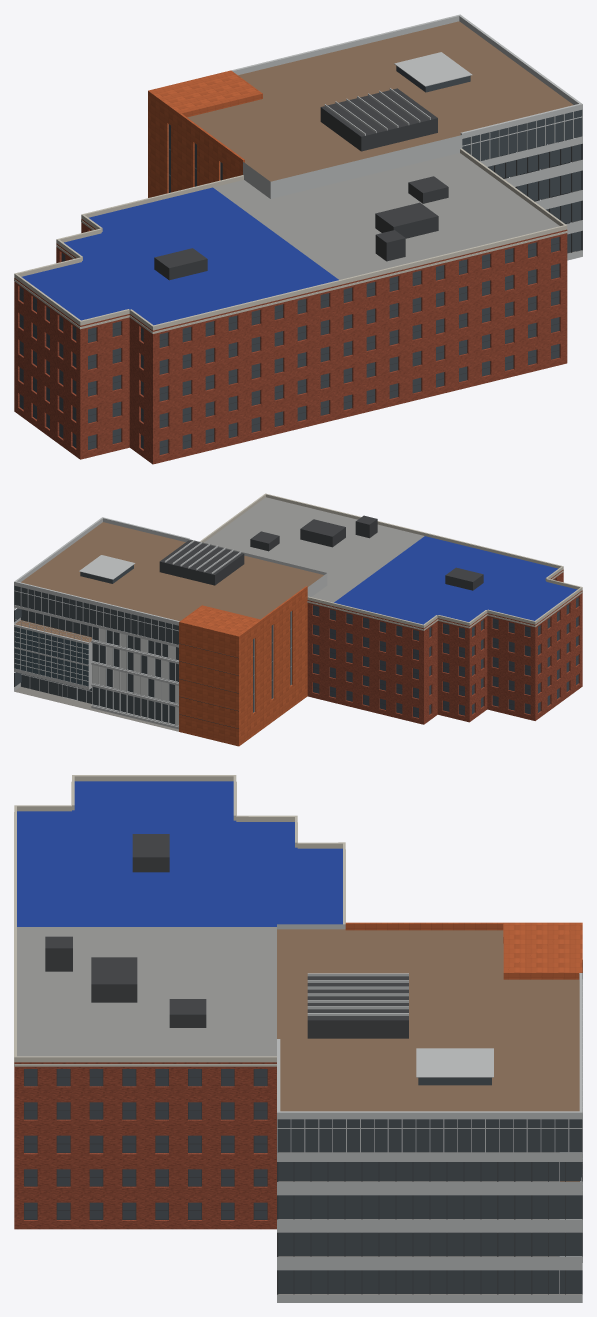
The picture shows the model from 3 angles, top to bottom: view 1: azimuth 30°, elevation 25°; view 2: azimuth 150°, elevation 25°; view 3: azimuth 270°, elevation 25°; orthographic projection. The views are drawn at different scales.
Parts seen in each view (by area): view 1: centralLibrary__brick, centralLibrary__deck, centralLibrary__roofBlue, centralLibrary__roofGray, centralLibrary__glass, centralLibrary__metal, centralLibrary__frame, centralLibrary__terracotta, centralLibrary__trim, centralLibrary__glassNew; view 2: centralLibrary__brick, centralLibrary__terracotta, centralLibrary__deck, centralLibrary__roofBlue, centralLibrary__metal, centralLibrary__glassNew, centralLibrary__roofGray, centralLibrary__frame, centralLibrary__glass, centralLibrary__trim, centralLibrary__glassBox, centralLibrary__panelW (+1 smaller); view 3: centralLibrary__deck, centralLibrary__glassNew, centralLibrary__roofBlue, centralLibrary__brick, centralLibrary__roofGray, centralLibrary__metal, centralLibrary__frame, centralLibrary__glass, centralLibrary__trim, centralLibrary__terracotta, centralLibrary__base.
Part boxes in pixels (left/top/right/bottom): centralLibrary__brick: left=14, top=219, right=567, bottom=464; centralLibrary__deck: left=187, top=21, right=573, bottom=181; centralLibrary__roofBlue: left=22, top=187, right=338, bottom=325; centralLibrary__roofGray: left=213, top=153, right=559, bottom=279; centralLibrary__glass: left=20, top=237, right=559, bottom=454; centralLibrary__metal: left=168, top=14, right=582, bottom=260; centralLibrary__frame: left=19, top=88, right=582, bottom=454; centralLibrary__terracotta: left=148, top=70, right=262, bottom=197; centralLibrary__trim: left=14, top=148, right=567, bottom=333; centralLibrary__glassNew: left=169, top=66, right=582, bottom=253; centralLibrary__brick: left=307, top=569, right=582, bottom=724; centralLibrary__terracotta: left=179, top=586, right=307, bottom=746; centralLibrary__deck: left=15, top=522, right=323, bottom=642; centralLibrary__roofBlue: left=334, top=536, right=577, bottom=624; centralLibrary__metal: left=14, top=517, right=327, bottom=729; centralLibrary__glassNew: left=14, top=565, right=291, bottom=724; centralLibrary__roofGray: left=204, top=497, right=424, bottom=602; centralLibrary__frame: left=14, top=515, right=578, bottom=728; centralLibrary__glass: left=313, top=579, right=578, bottom=717; centralLibrary__trim: left=199, top=493, right=582, bottom=630; centralLibrary__glassBox: left=14, top=627, right=88, bottom=686; centralLibrary__panelW: left=92, top=628, right=178, bottom=725; centralLibrary__deck: left=277, top=929, right=579, bottom=1181; centralLibrary__glassNew: left=277, top=1077, right=582, bottom=1293; centralLibrary__roofBlue: left=17, top=781, right=342, bottom=926; centralLibrary__brick: left=14, top=1062, right=276, bottom=1229; centralLibrary__roofGray: left=17, top=927, right=276, bottom=1056; centralLibrary__metal: left=277, top=924, right=582, bottom=1302; centralLibrary__frame: left=24, top=834, right=582, bottom=1294; centralLibrary__glass: left=24, top=1069, right=266, bottom=1219; centralLibrary__trim: left=14, top=775, right=345, bottom=1066; centralLibrary__terracotta: left=345, top=922, right=582, bottom=979; centralLibrary__base: left=278, top=1152, right=582, bottom=1294.
Size of the model in its own units: 91.49 by 24.5 by 61.77.
13 materials, 2 textured.
